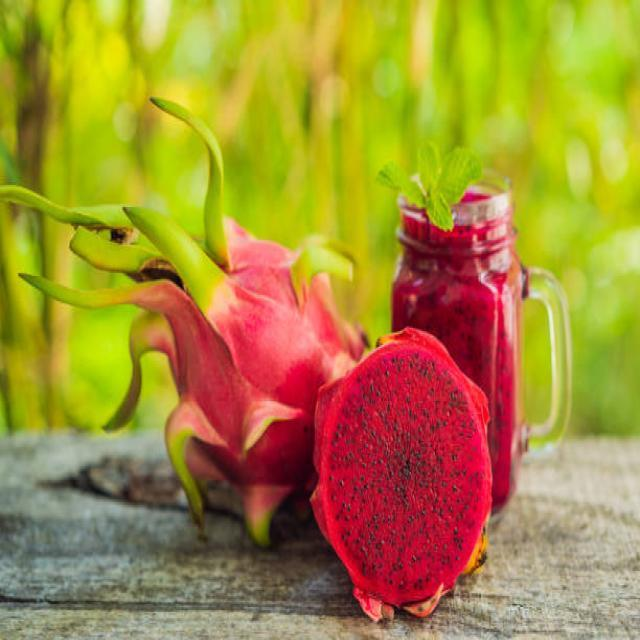dragon-fruit: (310, 330, 495, 606), (167, 237, 352, 512)
